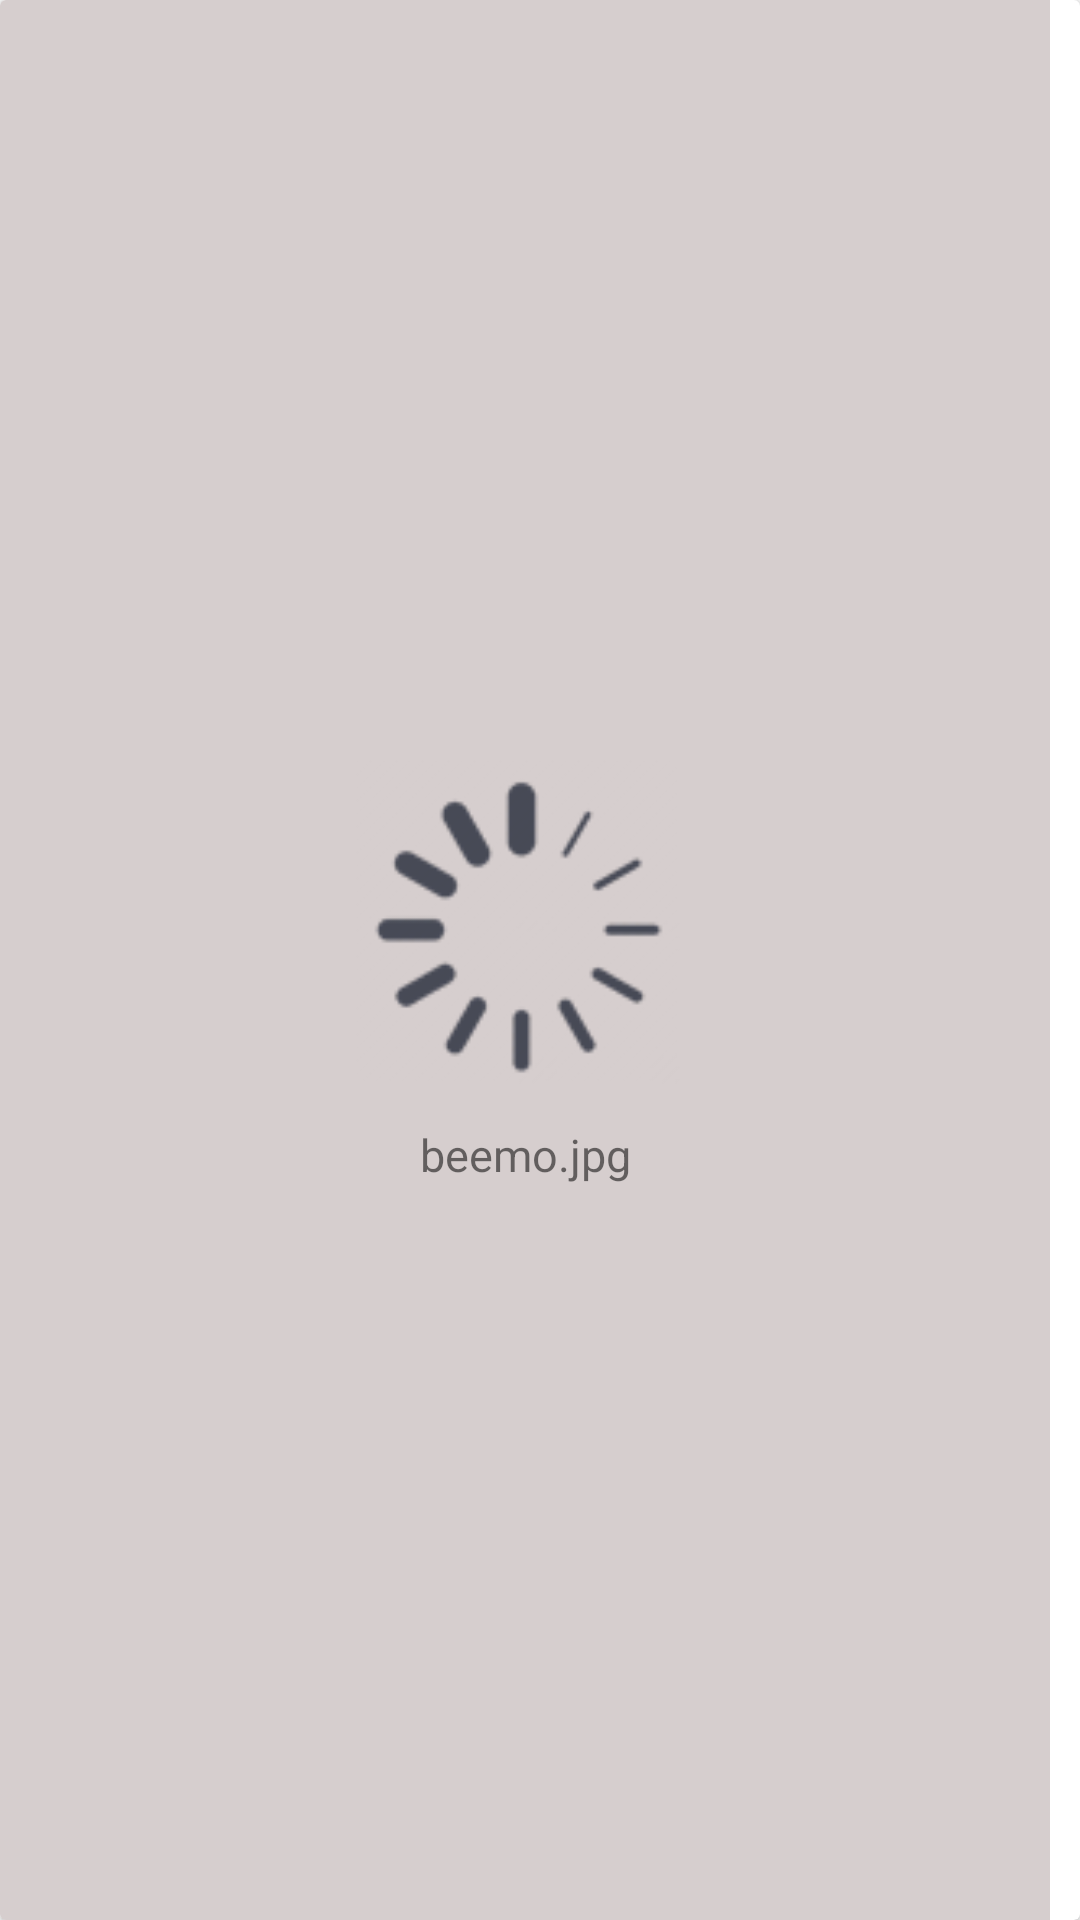

Named icons in this screenshot (1080*1920) and their bounding boxes, (x1, y1, x2, y2):
load: (376, 782, 662, 1073)
